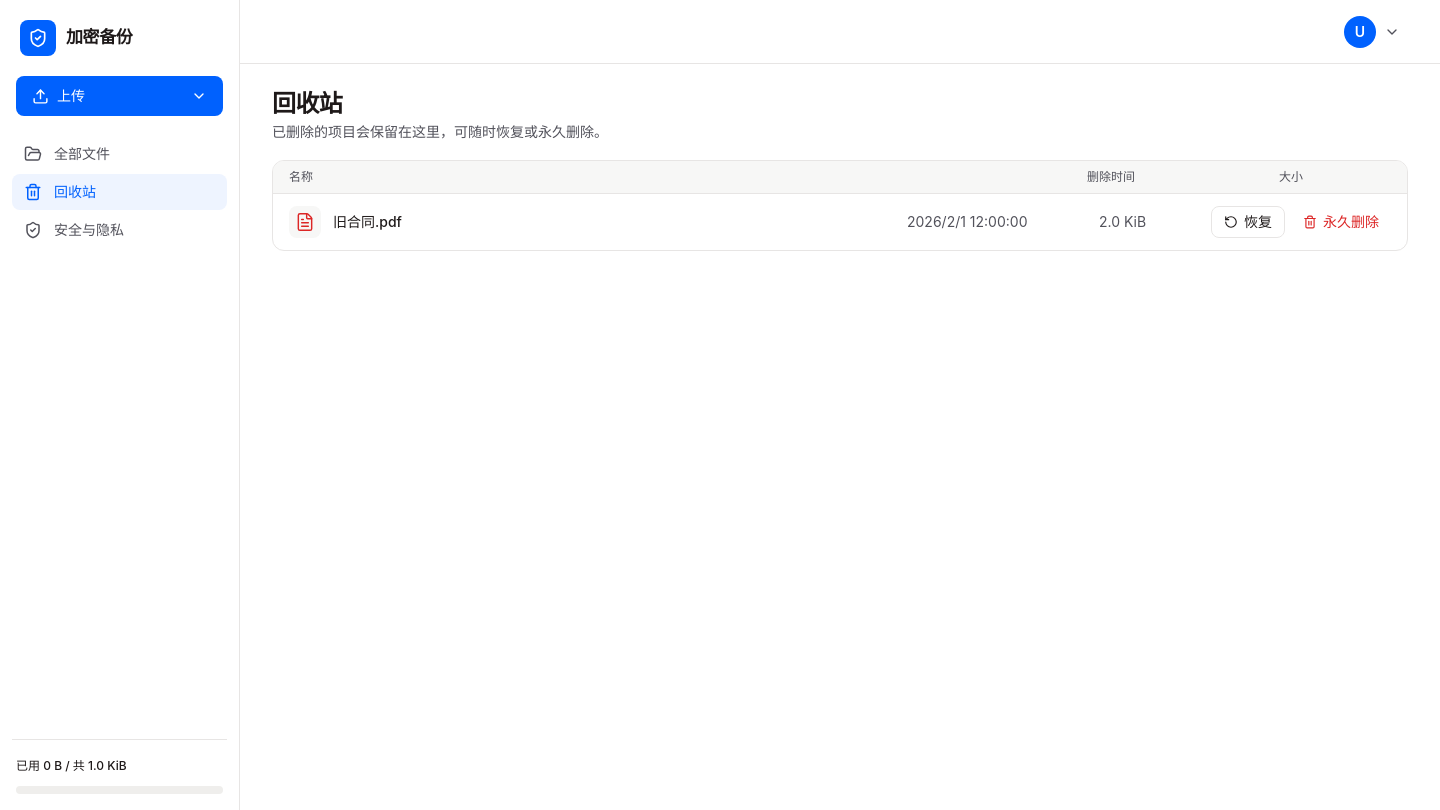
回收站视图 › 永久删除必须经过确认对话框
Expected: the row with test id "trash-item" is shown, [289,206,1391,238]
What coordinates should you click on to do the following:
click the button with aria-label "永久删除 旧合同.pdf"
I would click on:
 (1341, 222)
Its box is [1291,206,1391,238].
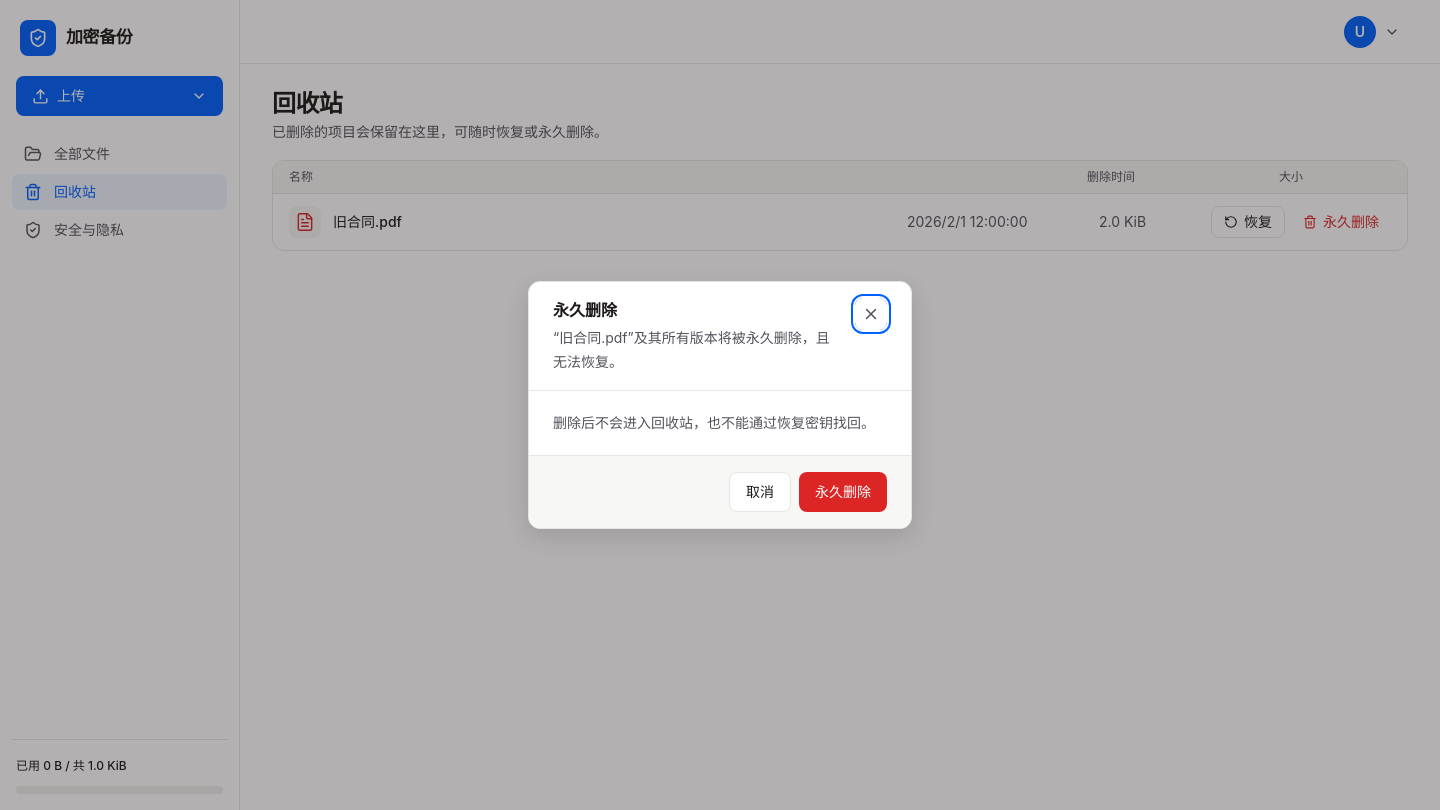
Result: the dialog "永久删除" is shown at [528,281,912,529]
What coordinates should you click on to do the following:
click the button with test id "confirm-permanent-delete"
I would click on:
 (843, 492)
Its box is [799,472,887,512].
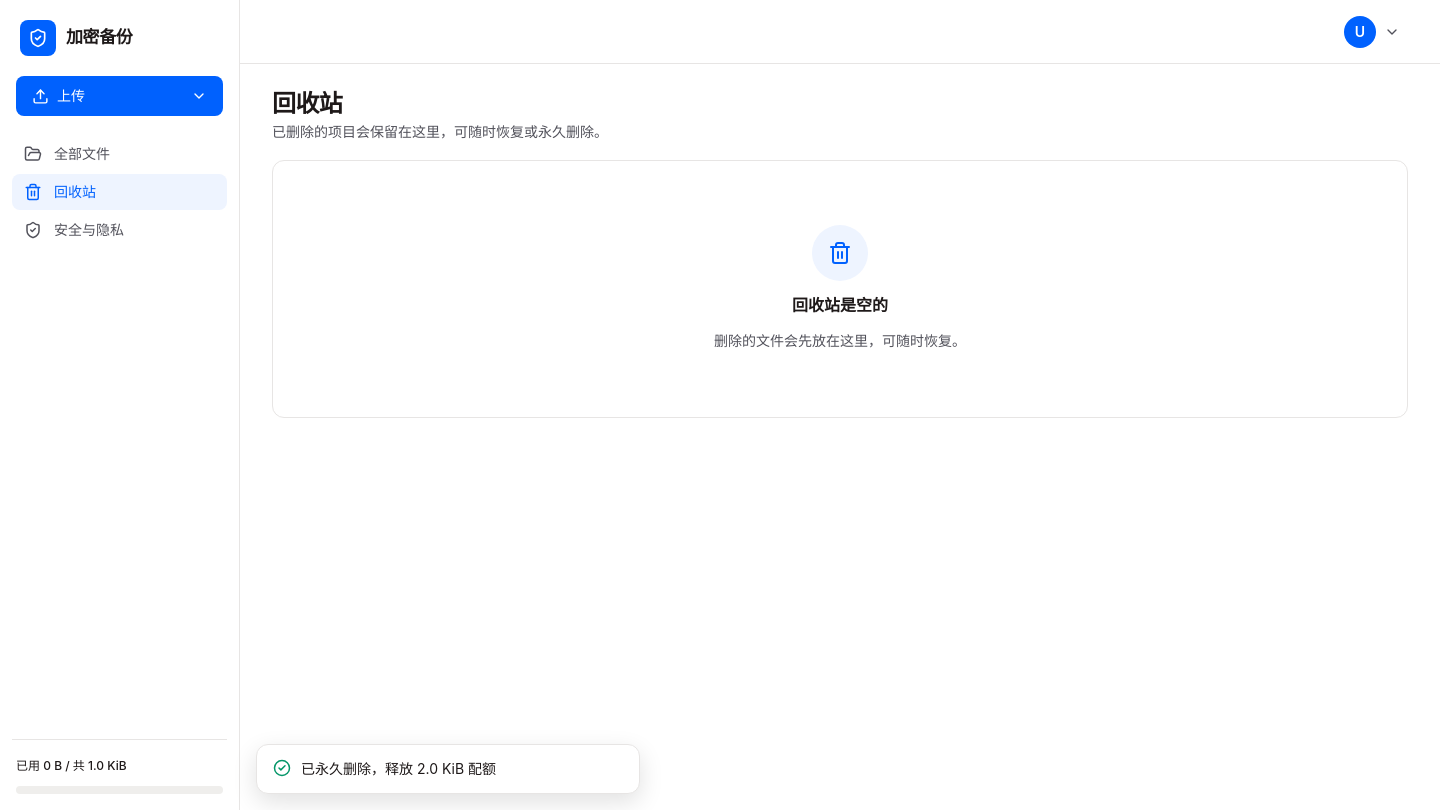
Result: the message shows "已永久删除" at [301,760,496,777]
